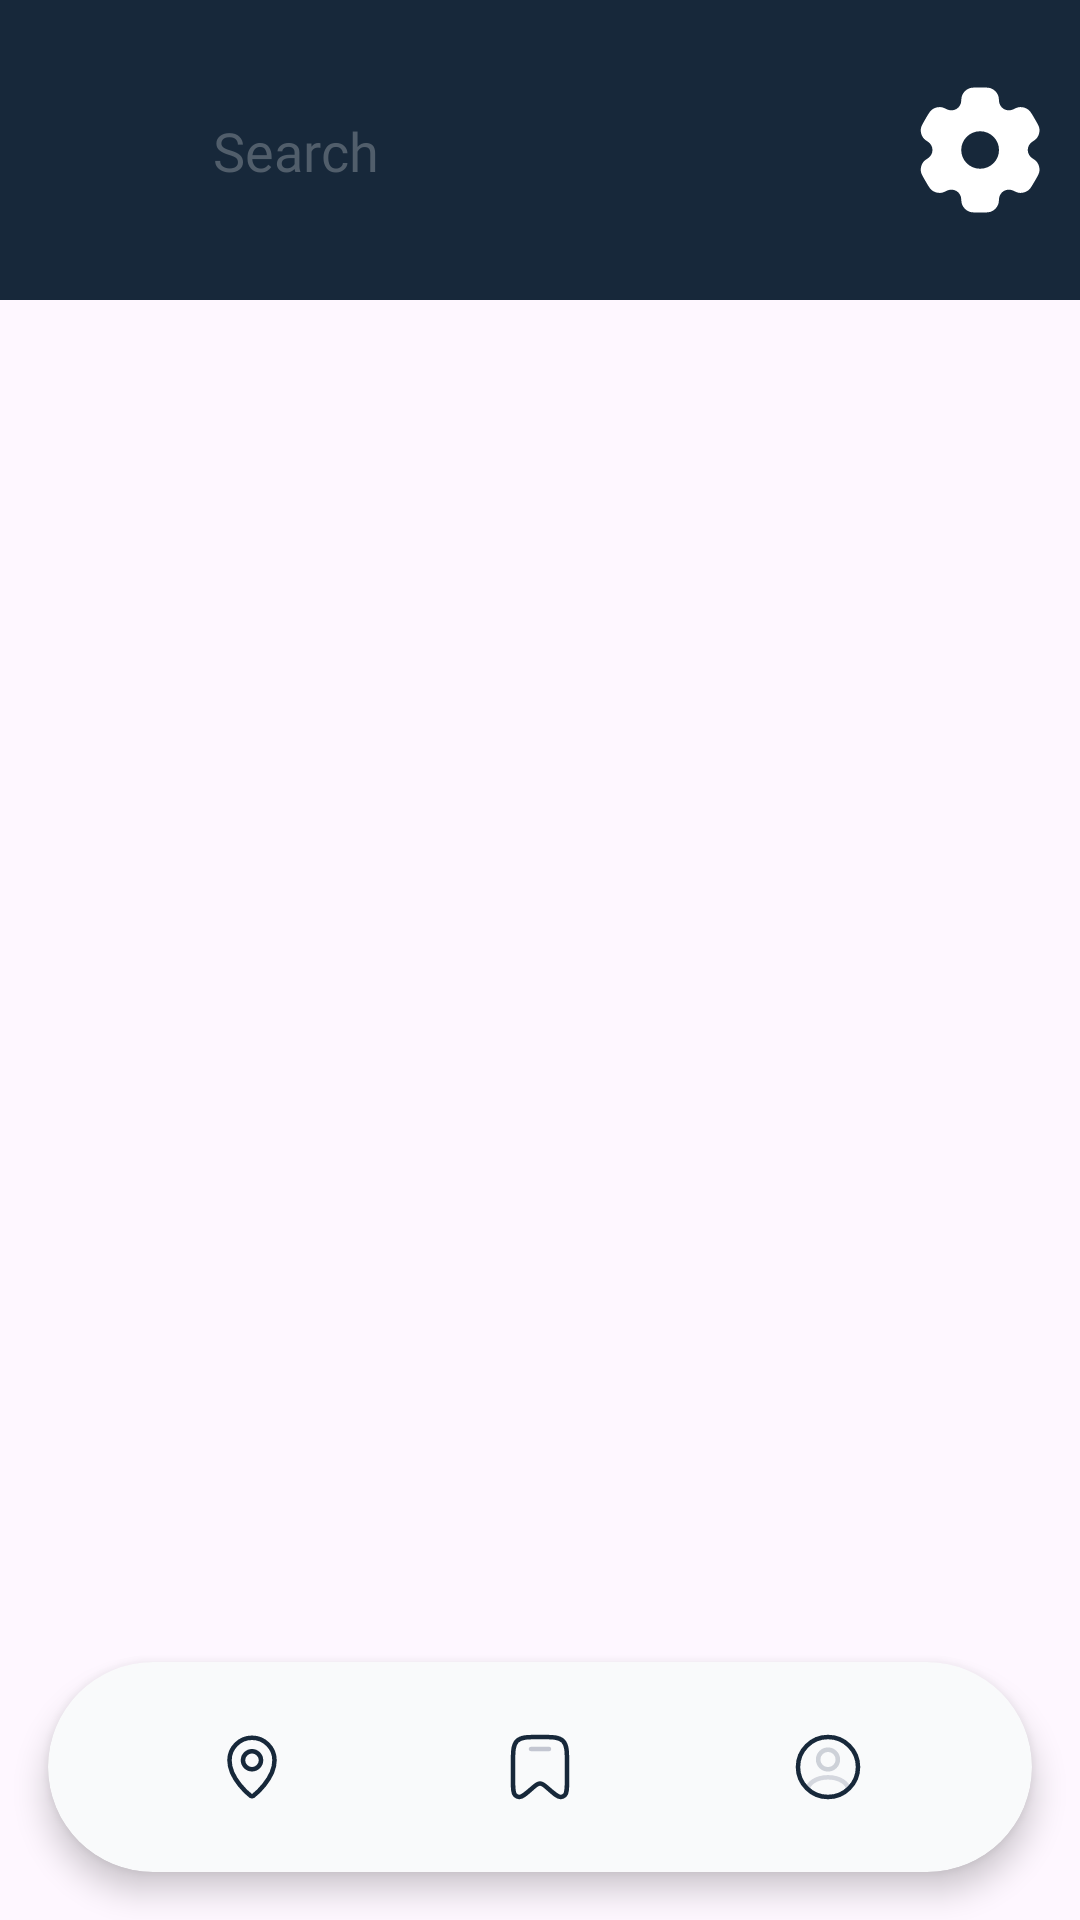

Icons on this 1080px×1920px Android screen, each with its box as (x1, y1, x2, y2):
bookmark: (510, 1734, 570, 1800)
profile: (795, 1734, 861, 1800)
settings: (920, 87, 1040, 213)
